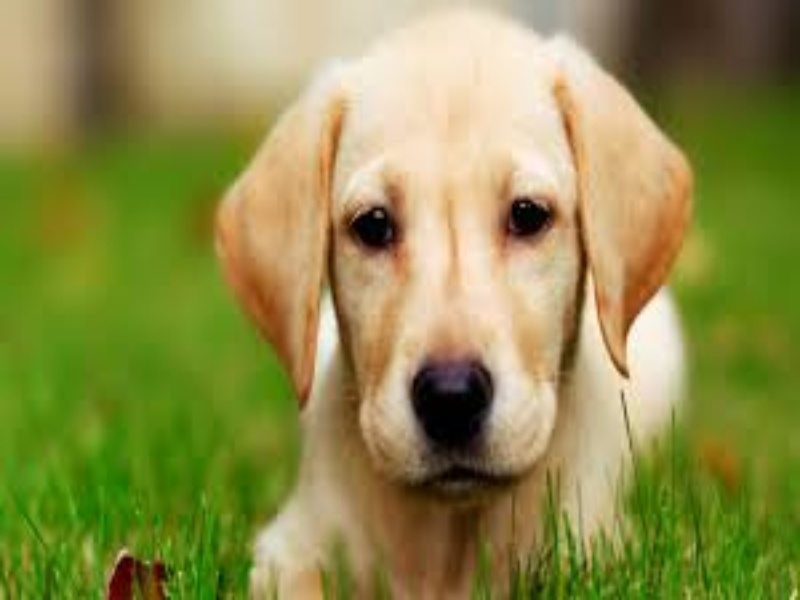dog: (204, 12, 701, 593)
